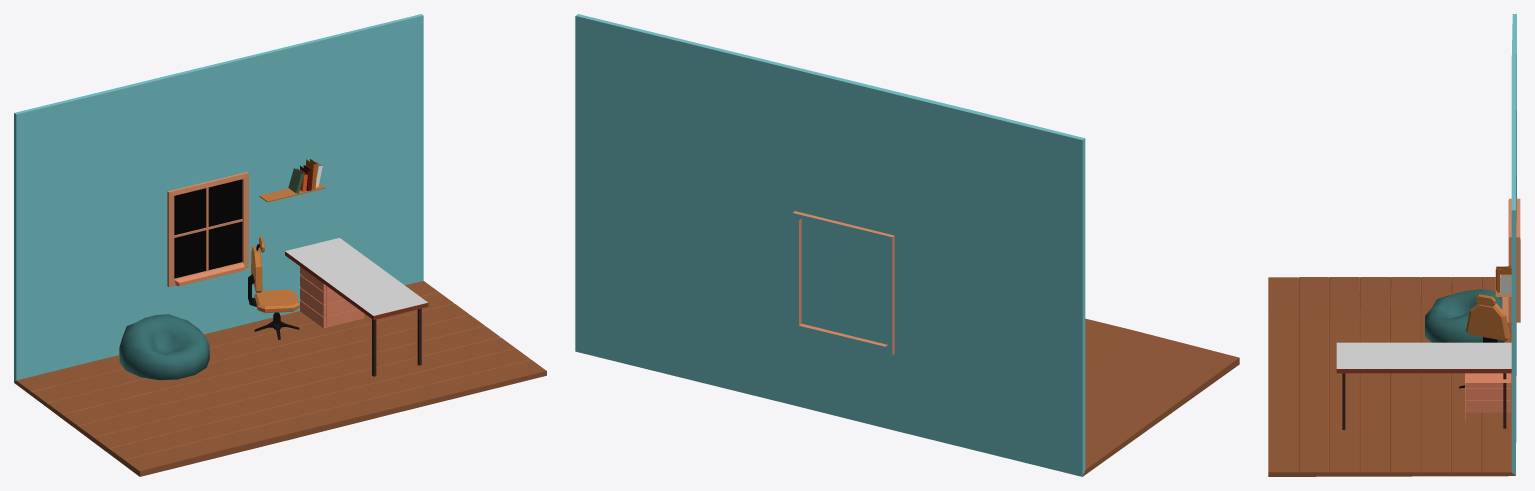
The model's file is environment_room.glb.
3 views of the same model, side by side, from view 1: azimuth 30°, elevation 25°; view 2: azimuth 150°, elevation 25°; view 3: azimuth 270°, elevation 25° (orthographic). The views are drawn at different scales.
Parts seen in each view (by area): view 1: Plane.001; view 2: Plane.001; view 3: Plane.001.
Part boxes in pixels (x1,y1,x2,y2): Plane.001: (14, 14, 546, 476); Plane.001: (575, 14, 1239, 476); Plane.001: (1268, 14, 1520, 476).
Size of the model in its own units: 20.25 by 12.93 by 11.01.
